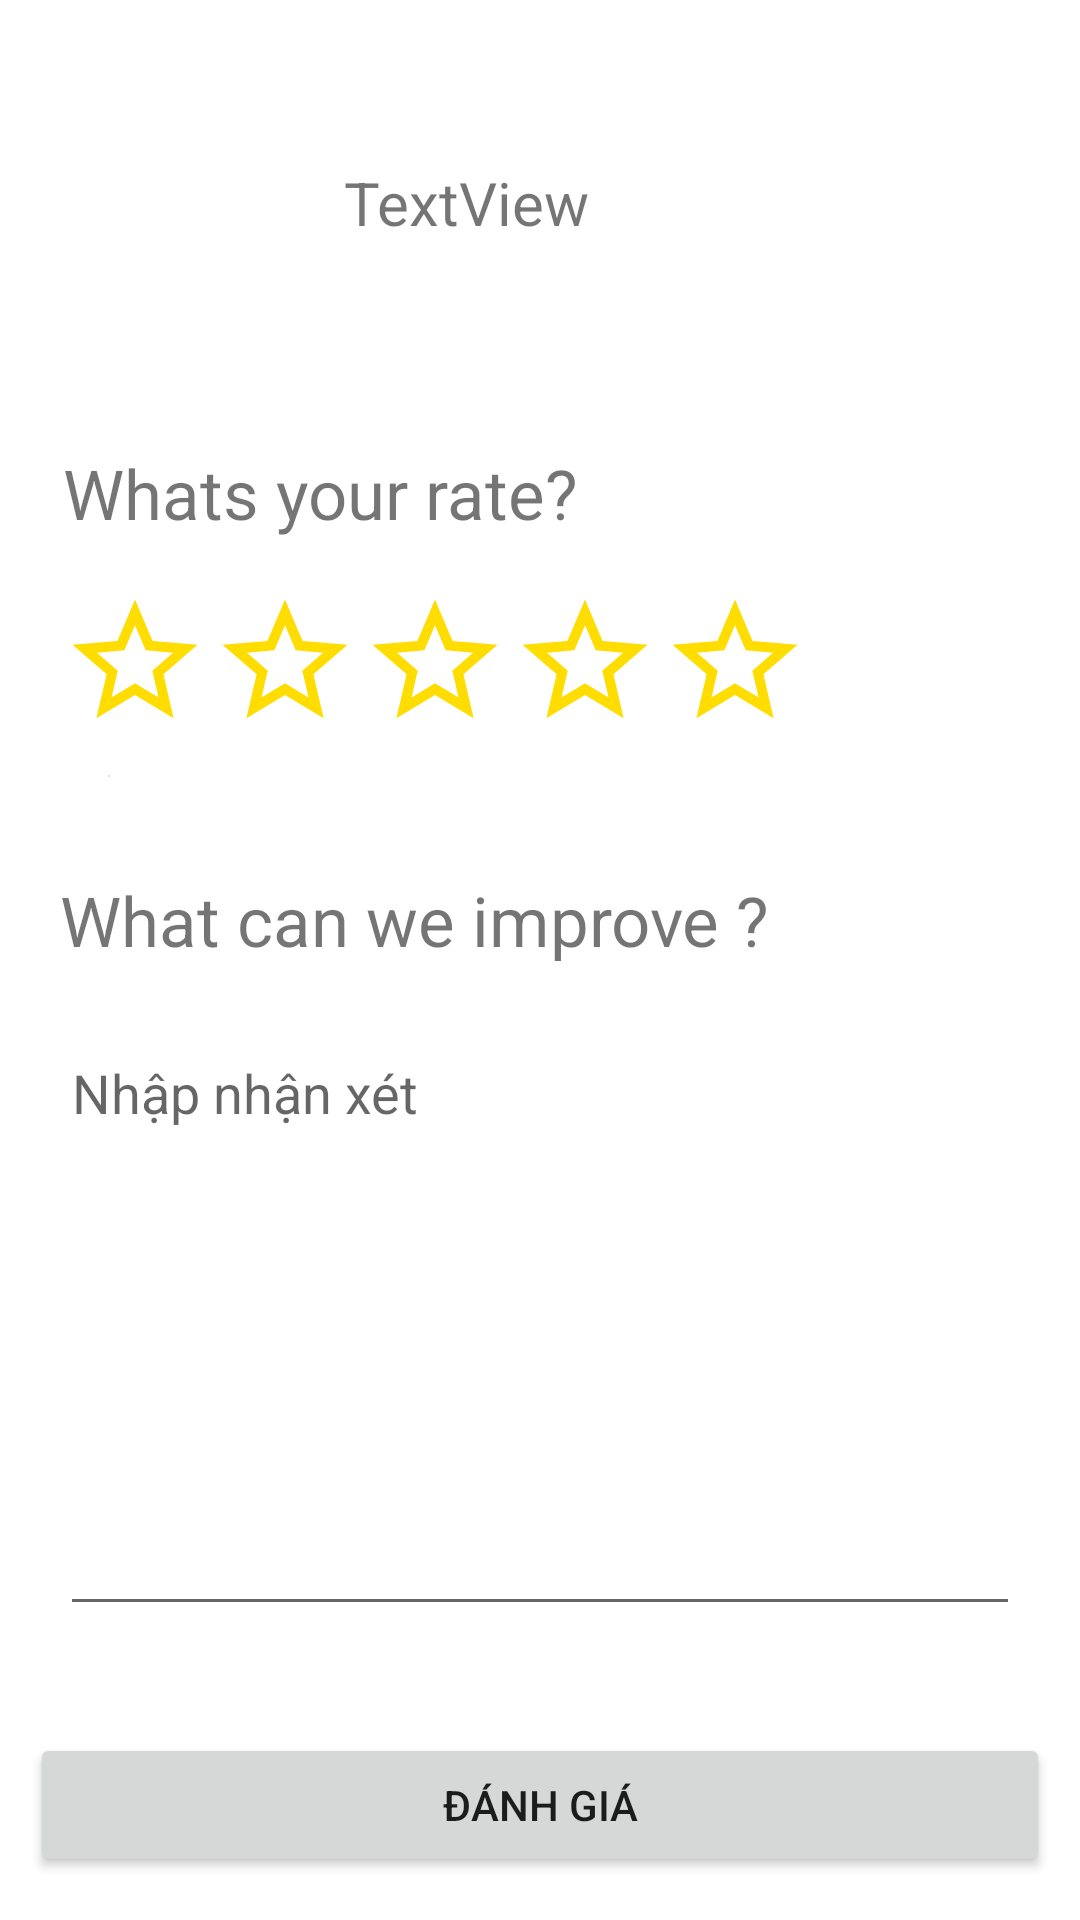

Where icons sit on this 1080px×1920px app screen, as (x1, y1, x2, y2):
saodau: (73, 600, 197, 718), (223, 600, 347, 718), (373, 600, 497, 718), (523, 600, 647, 718), (673, 600, 797, 718)
